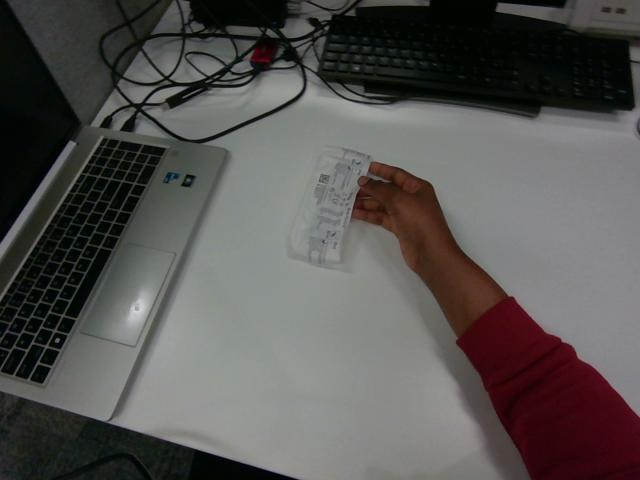syringe: (288, 147, 371, 267)
